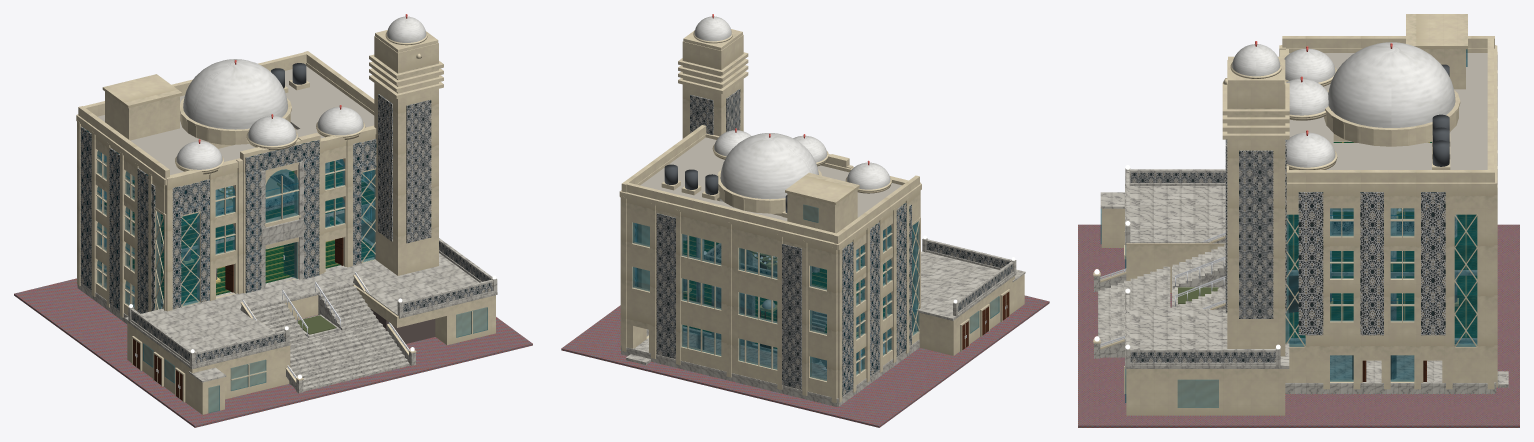
The model's file is khulna_model_mosque_tripo.glb.
The picture shows the model from 3 angles, left to right: view 1: azimuth 30°, elevation 25°; view 2: azimuth 150°, elevation 25°; view 3: azimuth 270°, elevation 25°; orthographic projection. The views are drawn at different scales.
Parts seen in each view (by area): view 1: Khulna_Model_Mosque_AAA; view 2: Khulna_Model_Mosque_AAA; view 3: Khulna_Model_Mosque_AAA.
Boxes of the visible parts, box(x1,y1,x2,y2) form: Khulna_Model_Mosque_AAA: box(14, 14, 532, 427); Khulna_Model_Mosque_AAA: box(561, 14, 1049, 427); Khulna_Model_Mosque_AAA: box(1078, 14, 1519, 427).
Bounding box in the file's own units: 34.5 × 28.4 × 32.
Materials: 23 (11 with a texture image).
